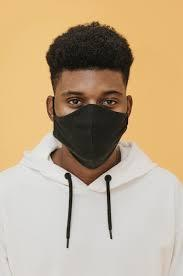mask: (47, 101, 134, 171)
